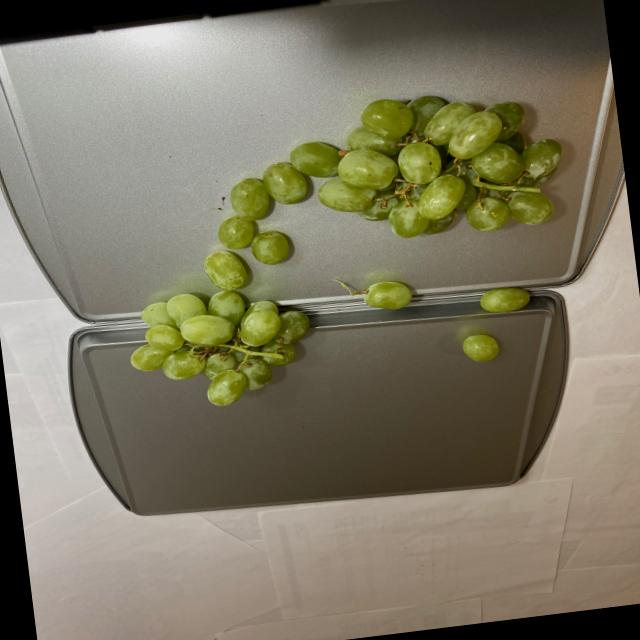grapes: (98, 81, 588, 418)
